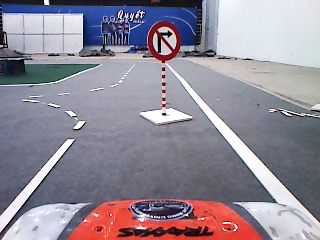ban: (147, 20, 181, 61)
